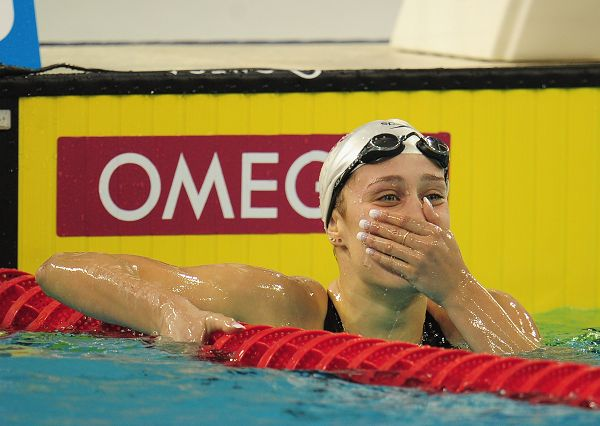face: (348, 152, 450, 293)
